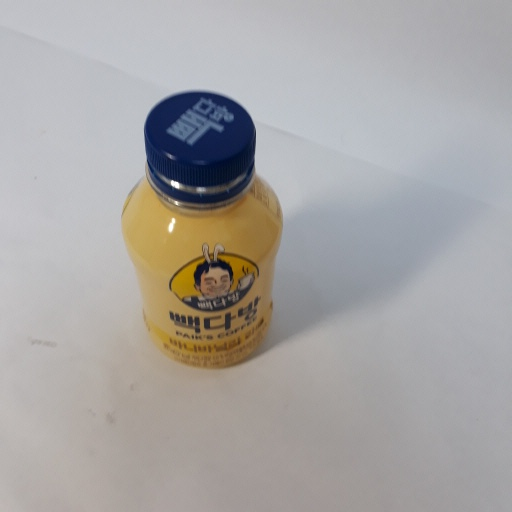Plastic_0: (118, 88, 291, 371)
